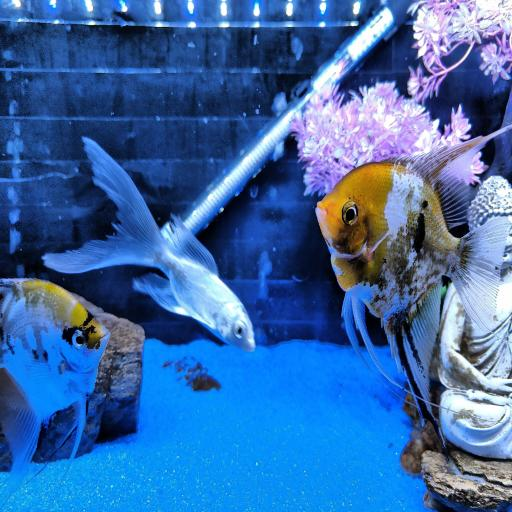Fish: (316, 126, 511, 440), (43, 138, 255, 351), (0, 279, 109, 505)
